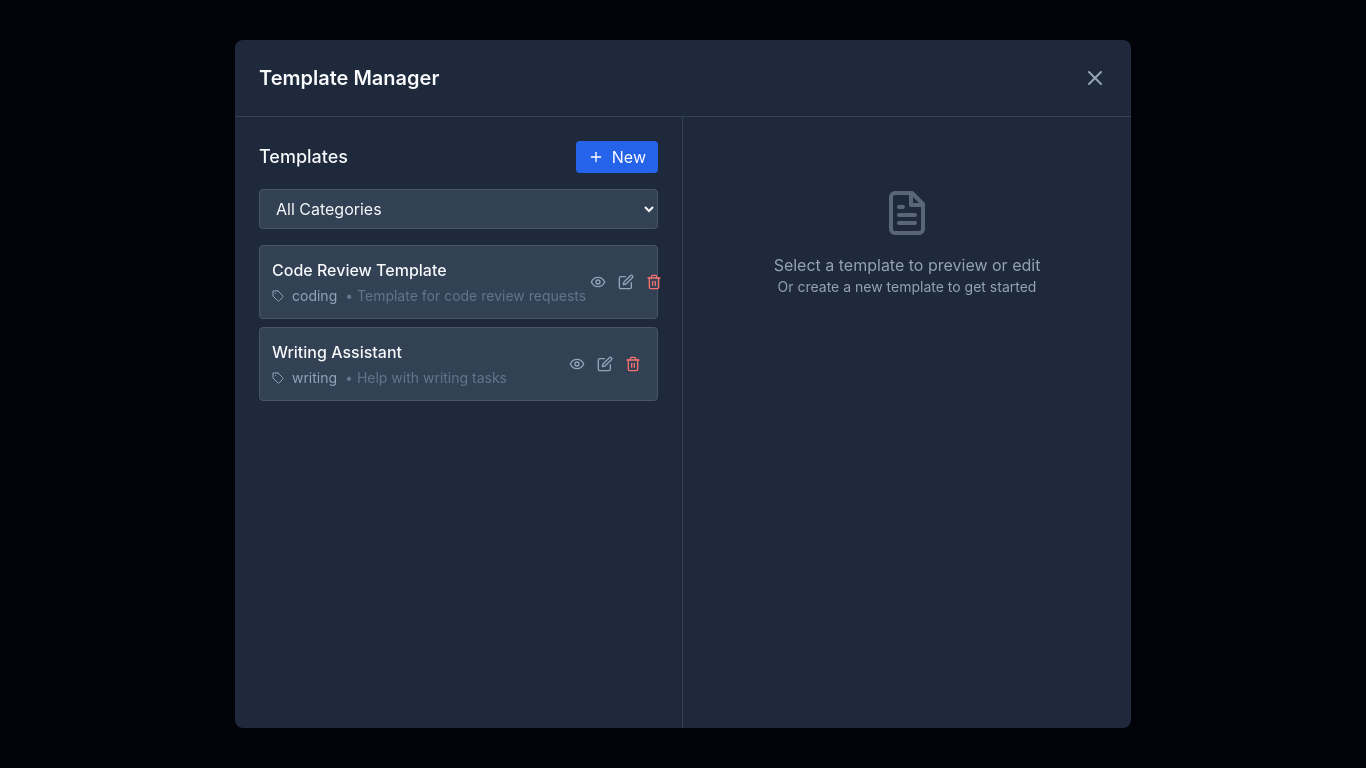
it: TemplateManager › opens create template form
Click the button "New".
click(617, 157)  # box [576,141,658,173]
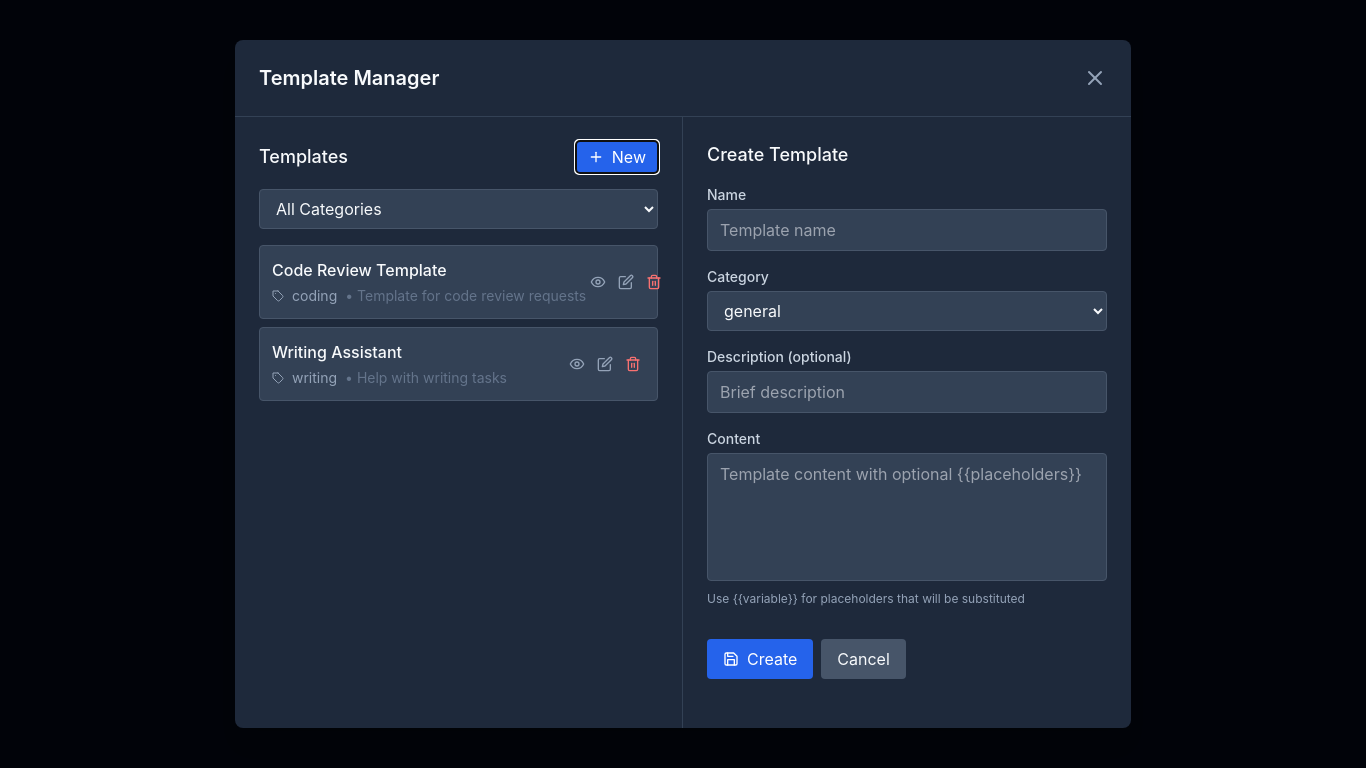
expect the heading "Create Template" is shown: met, box [707,144,848,165]
